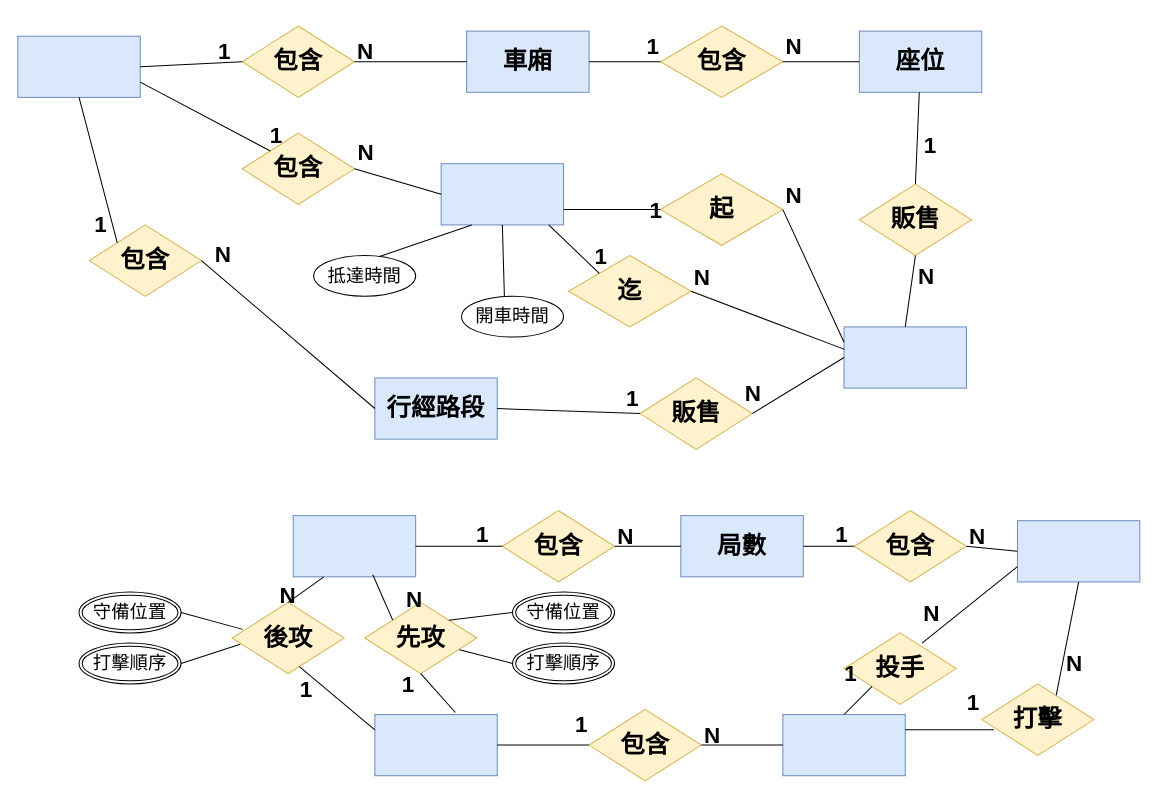
Some shapes in this 1158 by 799 pixel diagram are drawn without their labels. Each missing label, with the centre of its shape:
"停靠站" goes at point (502, 194).
"場次" goes at point (354, 546).
"球員" goes at point (843, 744).
"球次" goes at point (1078, 551).
"球隊" goes at point (435, 744).
"車次" goes at point (78, 66).
"車票" goes at point (904, 357).
